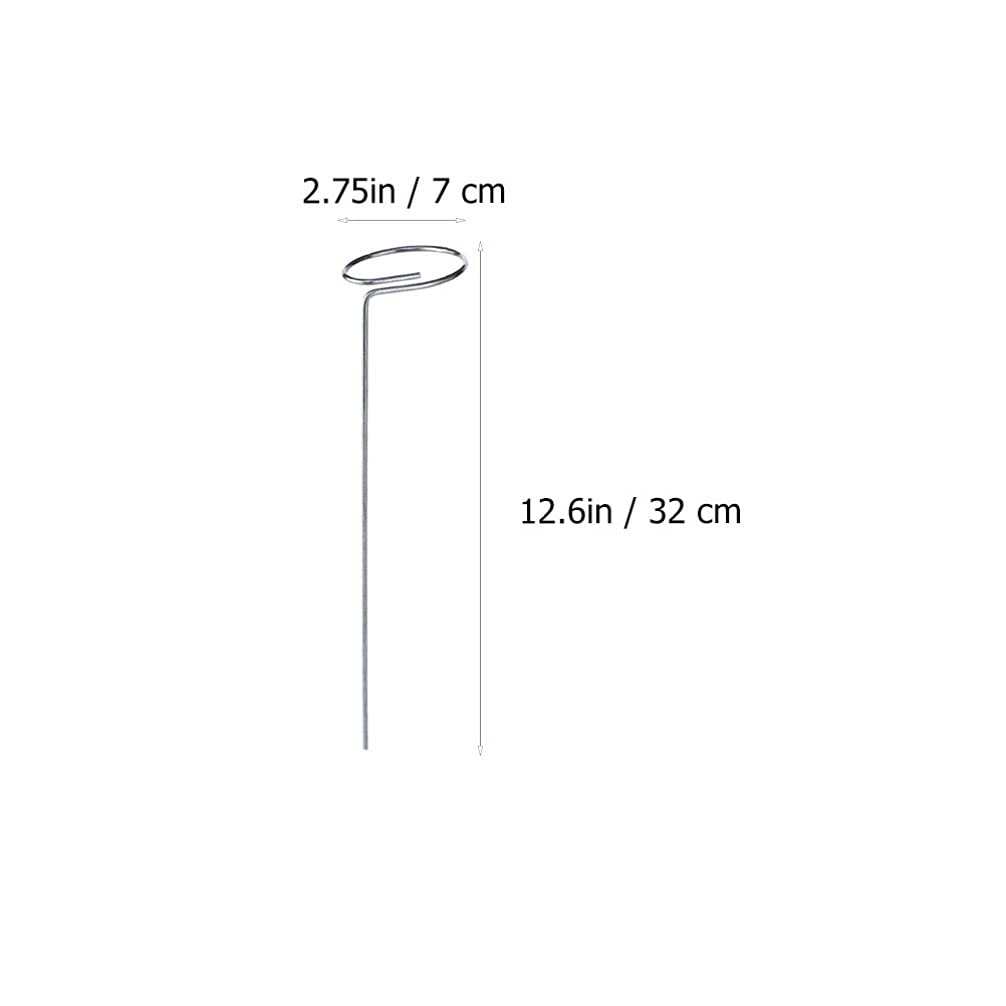/: (407, 176, 420, 209), (624, 497, 637, 529)
12.6in: (522, 498, 612, 524)
2.75in: (304, 178, 395, 204)
32: (650, 498, 685, 524)
cm: (698, 504, 740, 524)
